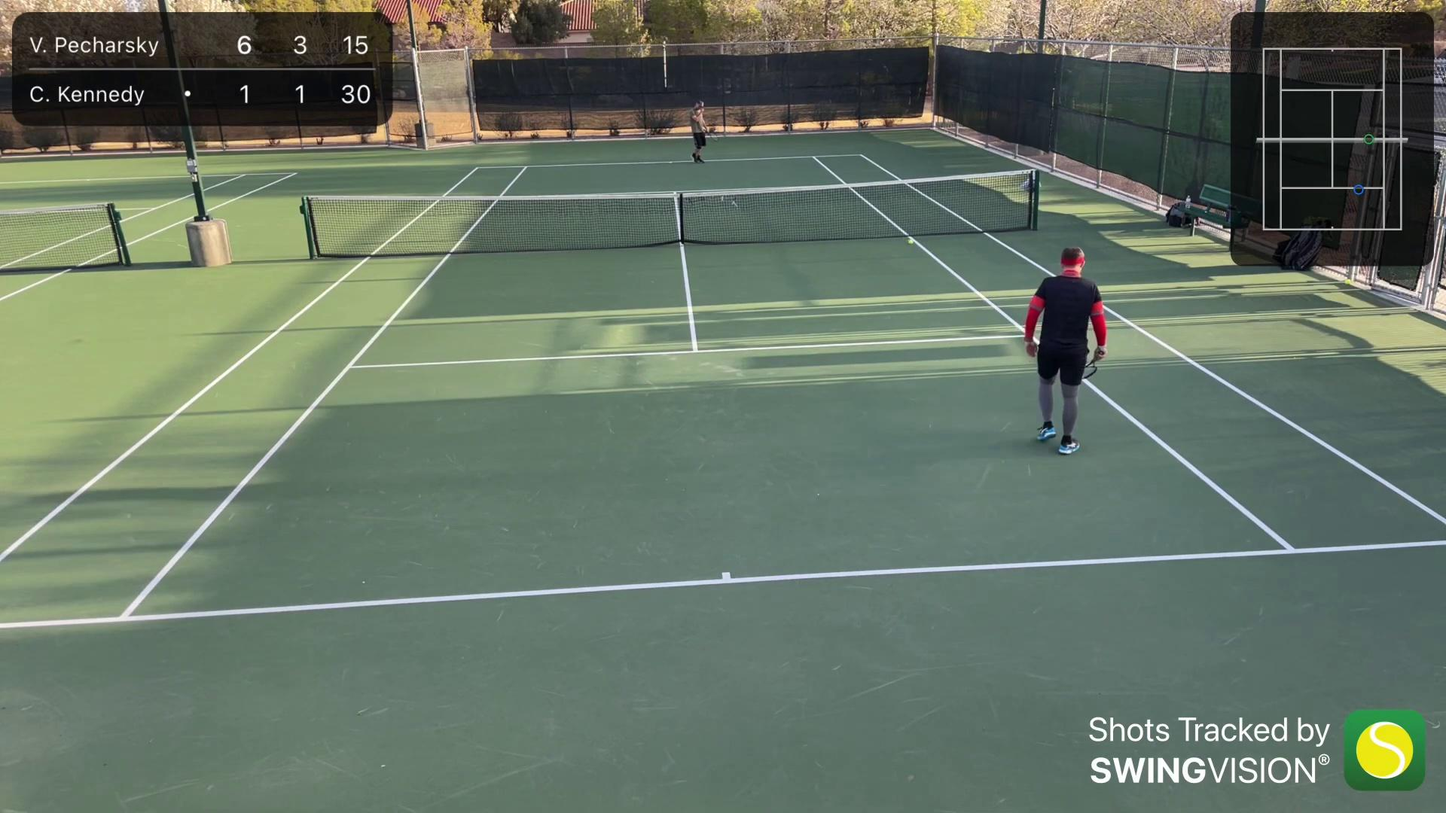ball: (908, 238, 914, 243)
